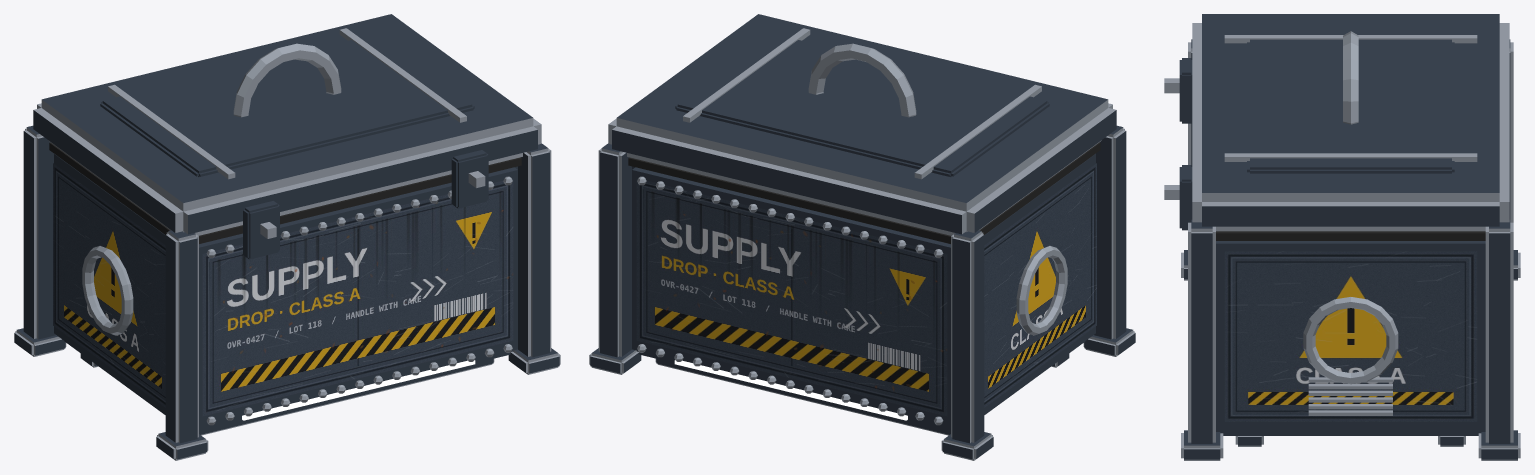
The model's file is supply-crate.glb.
3 renders of one model, left to right at view 1: azimuth 30°, elevation 25°; view 2: azimuth 150°, elevation 25°; view 3: azimuth 270°, elevation 25°, orthographic. The views are drawn at different scales.
Visible parts, largest first — view 1: body, lid; view 2: body, lid; view 3: body, lid.
Boxes of the visible parts, x1,y1,x2,y2 form: body: [14, 125, 560, 460]; lid: [33, 14, 541, 259]; body: [589, 125, 1135, 460]; lid: [608, 14, 1116, 235]; body: [1181, 39, 1520, 460]; lid: [1164, 14, 1509, 231].
Size of the model in its own units: 1.67 by 1.3 by 1.27.
Materials: 6 (2 with a texture image).
